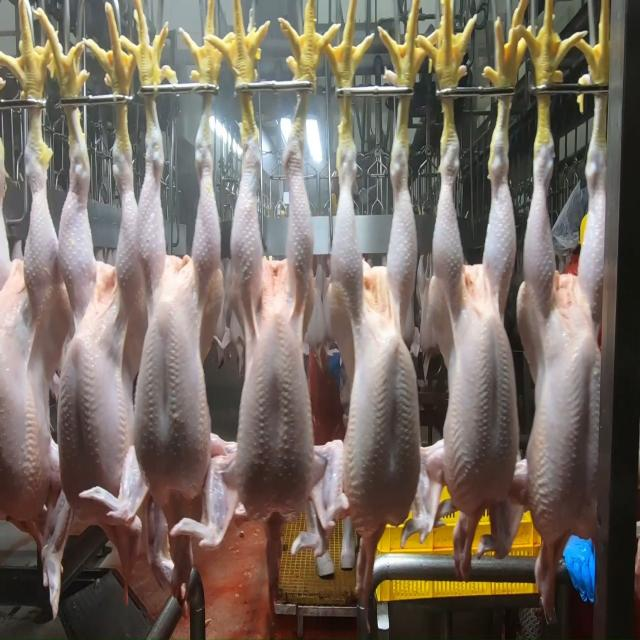chicken: (226, 107, 322, 523), (429, 122, 521, 520), (329, 125, 420, 523), (132, 108, 222, 510), (523, 132, 607, 542), (59, 128, 139, 548), (0, 129, 56, 537)
